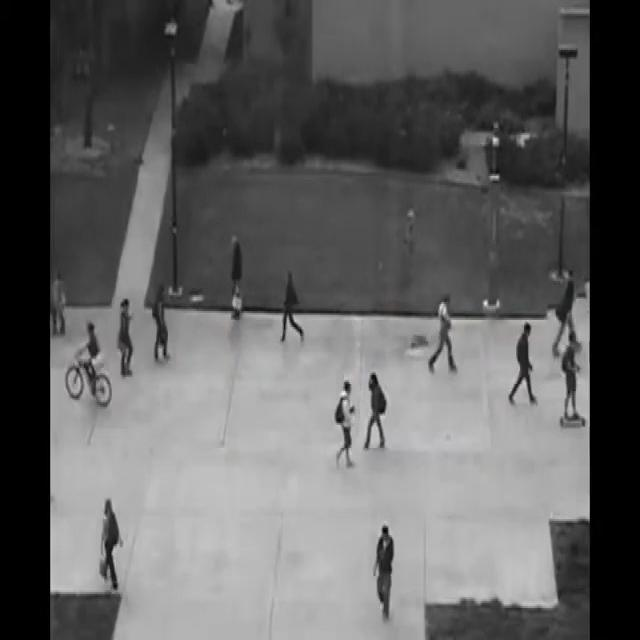anamoly: (550, 306, 596, 457), (64, 318, 121, 428)
